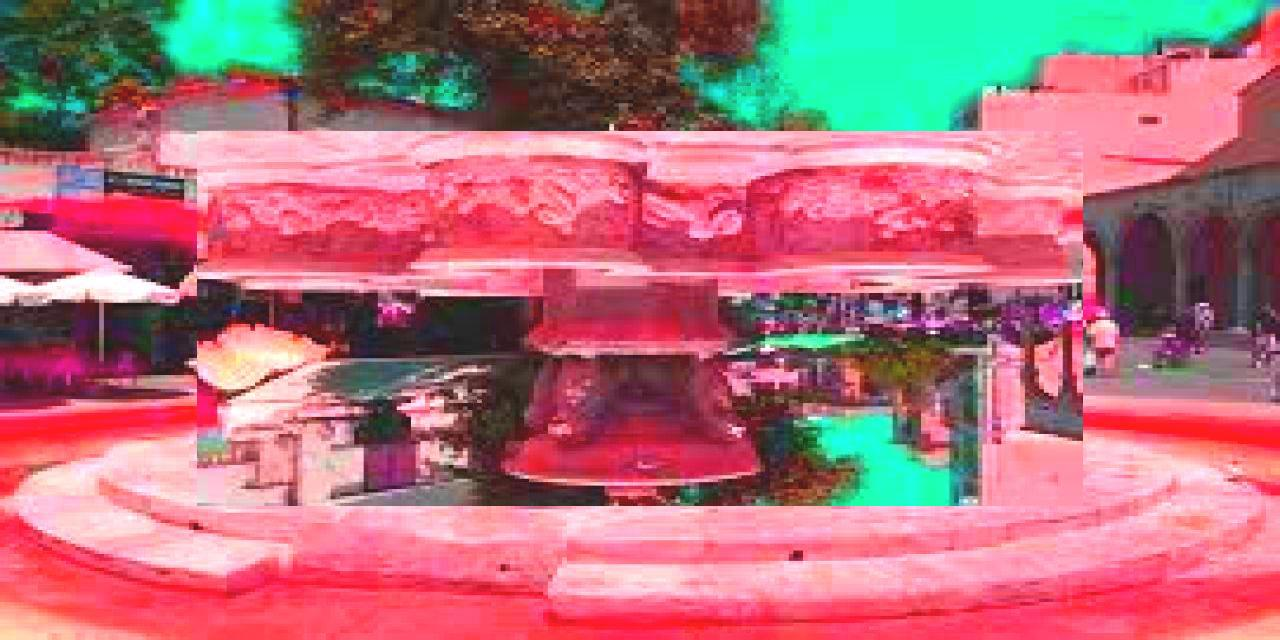Liontaria: (198, 132, 1084, 507)
